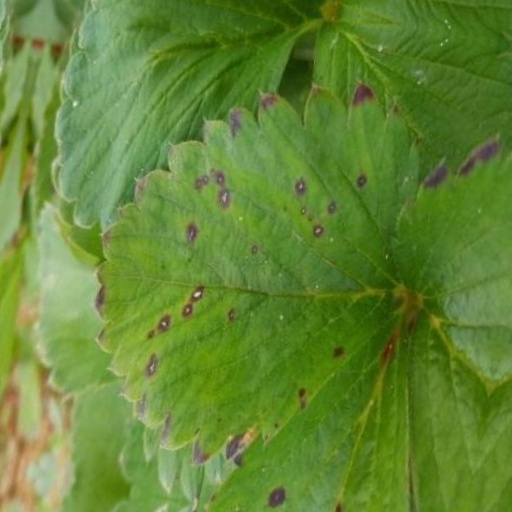Leaf Spot: (98, 36, 412, 450), (48, 0, 257, 235)
